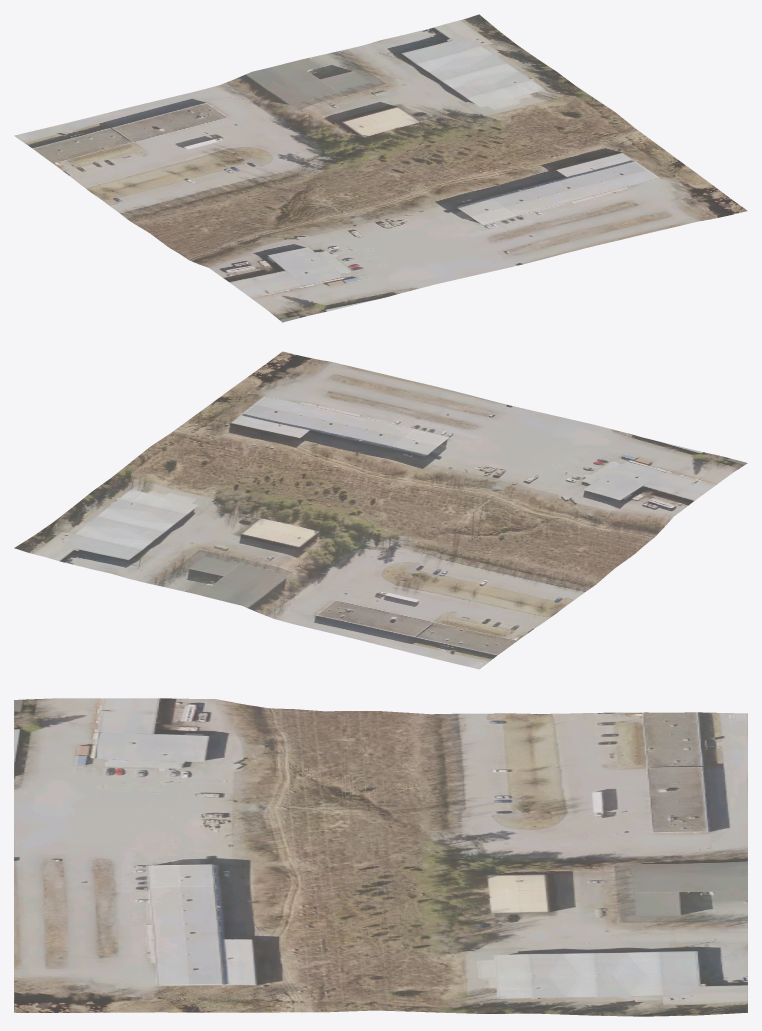
The model's file is CM_Terrain_24493121_6816517.fbx.
3 views of the same model, one above another, from view 1: azimuth 30°, elevation 25°; view 2: azimuth 150°, elevation 25°; view 3: azimuth 270°, elevation 25° (orthographic). The views are drawn at different scales.
Parts seen in each view (by area): view 1: CM_Terrain_24493121_6816517_LOD0; view 2: CM_Terrain_24493121_6816517_LOD0; view 3: CM_Terrain_24493121_6816517_LOD0.
Part boxes in pixels (bbox=[...]): CM_Terrain_24493121_6816517_LOD0: bbox=[14, 14, 747, 322]; CM_Terrain_24493121_6816517_LOD0: bbox=[14, 351, 747, 669]; CM_Terrain_24493121_6816517_LOD0: bbox=[14, 698, 747, 1016].
Size of what is drawn, in the model's own units: 205 by 5.26 by 205.
